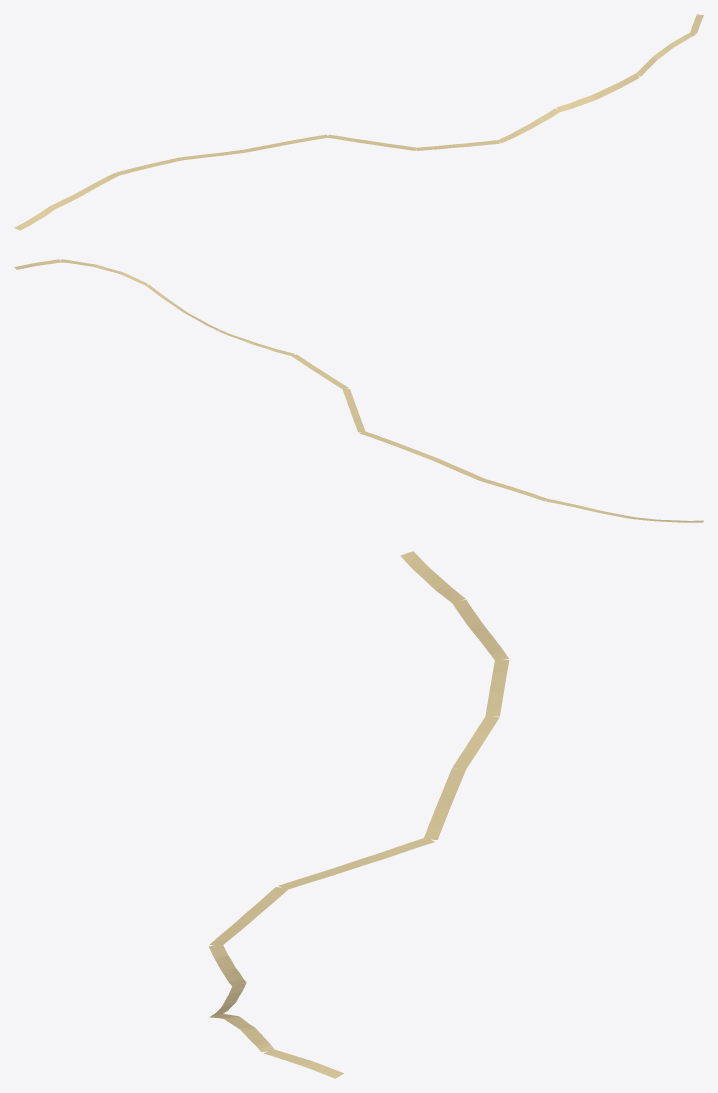
Rendered from Trail_09.glb.
3 views of the same model, one above another, from view 1: azimuth 30°, elevation 25°; view 2: azimuth 150°, elevation 25°; view 3: azimuth 270°, elevation 25° (orthographic). The views are drawn at different scales.
Visible parts, largest first — view 1: Trail_09; view 2: Trail_09; view 3: Trail_09.
Part boxes in pixels (bbox=[...]): Trail_09: bbox=[14, 14, 703, 230]; Trail_09: bbox=[14, 259, 703, 522]; Trail_09: bbox=[208, 551, 509, 1078].
Size of the model in its own units: 187 by 17.64 by 36.25.
